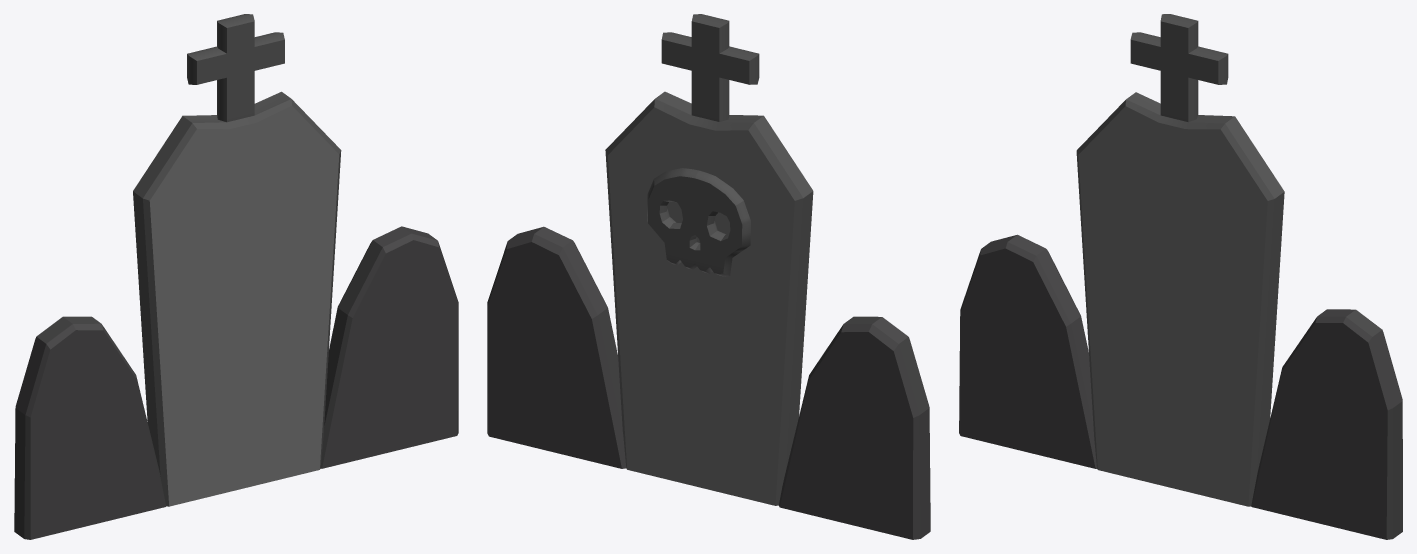
The model's file is TombstoneCluster.fbx.
The picture shows the model from 3 angles, left to right: view 1: azimuth 30°, elevation 25°; view 2: azimuth 150°, elevation 25°; view 3: azimuth 330°, elevation 25°; orthographic projection.
Visible parts, largest first — view 1: TombstoneSkull5; view 2: TombstoneSkull5; view 3: TombstoneSkull5.
Boxes of the visible parts, left/top/right/bottom form: TombstoneSkull5: left=14, top=14, right=458, bottom=539; TombstoneSkull5: left=487, top=14, right=930, bottom=539; TombstoneSkull5: left=959, top=14, right=1402, bottom=539.
Size of the model in its own units: 4.71 by 4.81 by 0.434.
